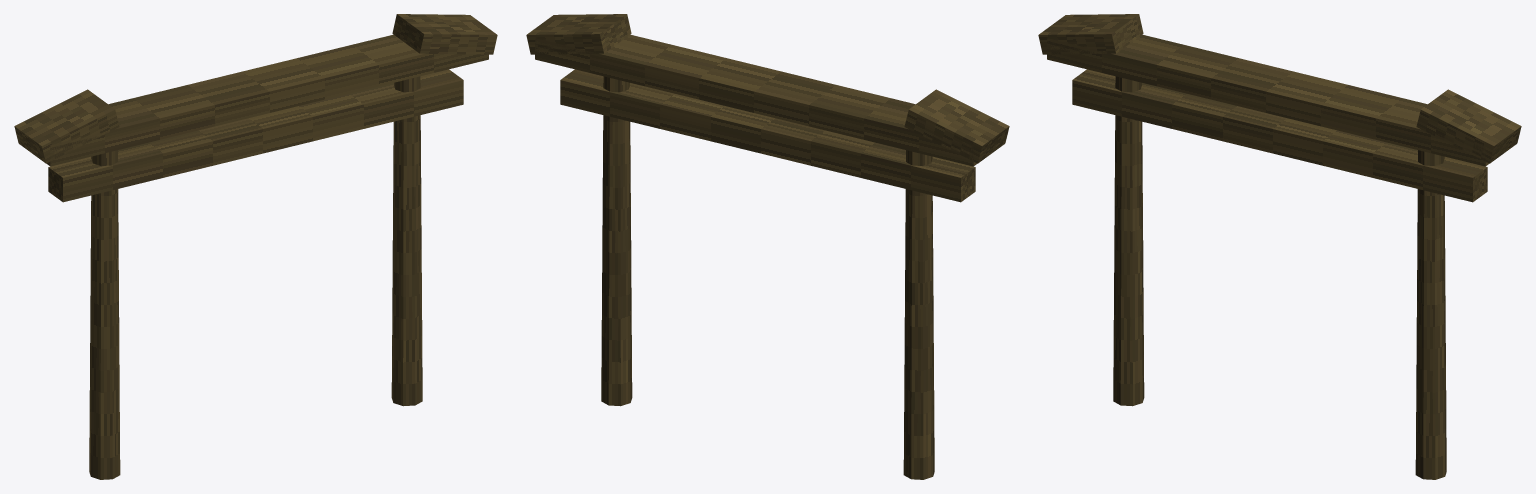
File: gate_33.glb
3 renders of one model, left to right at view 1: azimuth 30°, elevation 25°; view 2: azimuth 150°, elevation 25°; view 3: azimuth 330°, elevation 25°, orthographic.
Visible parts, largest first — view 1: Roof, Lintel, Pillar, Pillar.001, RaisedEave, RaisedEave.001; view 2: Roof, Lintel, Pillar, Pillar.001, RaisedEave, RaisedEave.001; view 3: Roof, Lintel, Pillar.001, Pillar, RaisedEave.001, RaisedEave.
Part boxes in pixels (<box>): Roof: <box>46,34,488,166</box>; Lintel: <box>48,69,463,202</box>; Pillar: <box>89,150,120,479</box>; Pillar.001: <box>391,76,422,406</box>; RaisedEave: <box>14,89,119,163</box>; RaisedEave.001: <box>392,14,497,54</box>; Roof: <box>535,34,977,166</box>; Lintel: <box>560,69,975,202</box>; Pillar: <box>903,150,934,479</box>; Pillar.001: <box>601,76,632,406</box>; RaisedEave: <box>904,89,1009,163</box>; RaisedEave.001: <box>526,14,631,54</box>; Roof: <box>1047,34,1489,166</box>; Lintel: <box>1072,69,1487,202</box>; Pillar.001: <box>1415,150,1446,479</box>; Pillar: <box>1113,76,1144,406</box>; RaisedEave.001: <box>1416,89,1521,163</box>; RaisedEave: <box>1038,14,1143,54</box>.
Bounding box in the file's own units: 6.23 × 4.89 × 0.65.
1 material, 1 textured.
